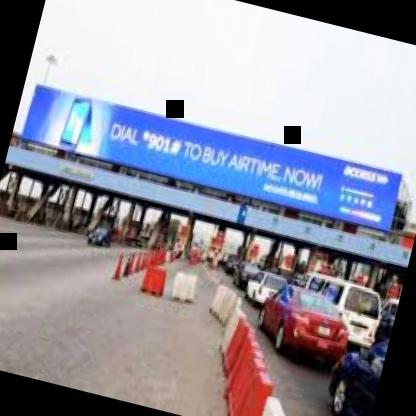car: (244, 268, 360, 382), (308, 303, 395, 416), (294, 265, 392, 352), (235, 262, 316, 325), (78, 213, 122, 255)
